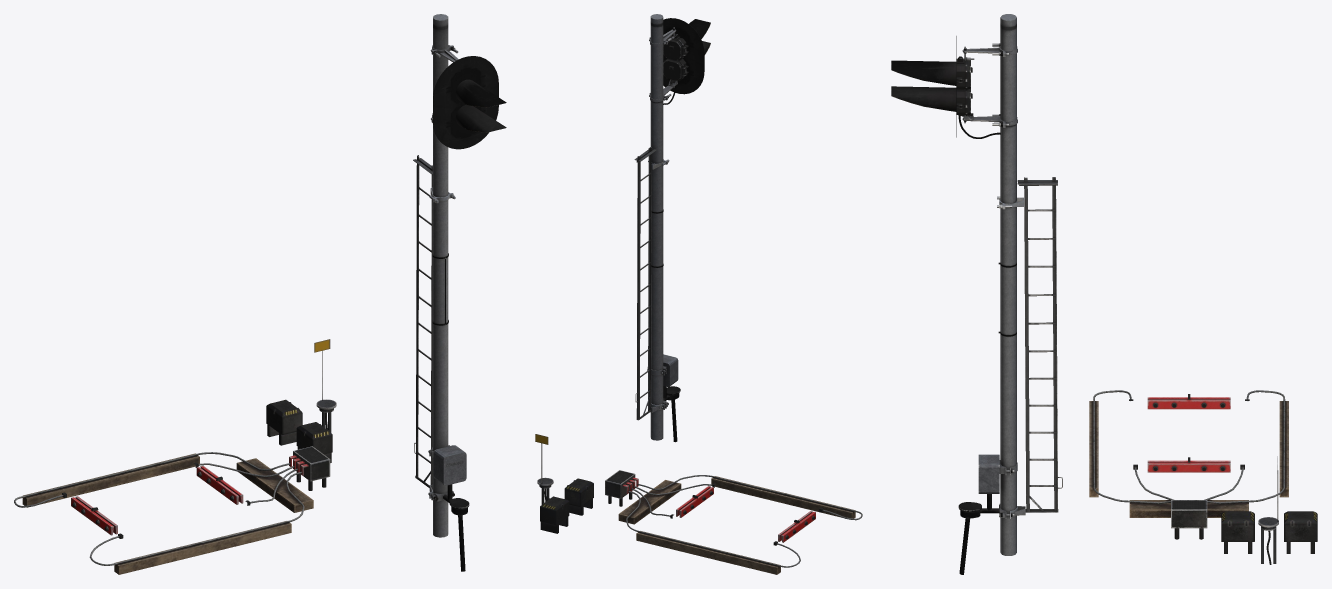
The model's file is RM_sig_P_MM2_2_line.gltf.
The picture shows the model from 3 angles, left to right: view 1: azimuth 30°, elevation 25°; view 2: azimuth 150°, elevation 25°; view 3: azimuth 270°, elevation 25°; orthographic projection. The views are drawn at different scales.
Parts seen in each view (by area): view 1: Изостык, Светофор ПРОХОДНОЙ, Cylinder002, Светофор выходной; view 2: Изостык, Светофор ПРОХОДНОЙ, Светофор выходной, Cylinder002; view 3: Светофор ПРОХОДНОЙ, Изостык, Светофор выходной.
Part boxes in pixels (box(x1,y1,x2,y2)): Изостык: box(14, 339, 336, 574); Светофор ПРОХОДНОЙ: box(413, 14, 469, 571); Cylinder002: box(433, 56, 498, 149); Светофор выходной: box(430, 45, 506, 132); Изостык: box(535, 434, 862, 574); Светофор ПРОХОДНОЙ: box(634, 14, 680, 442); Светофор выходной: box(649, 19, 710, 104); Cylinder002: box(663, 18, 704, 94); Светофор ПРОХОДНОЙ: box(958, 14, 1062, 574); Изостык: box(1089, 390, 1317, 564); Светофор выходной: box(891, 43, 1017, 138).
Size of the model in its own units: 4.22 by 6.54 by 4.54.
4 materials, 3 textured.
